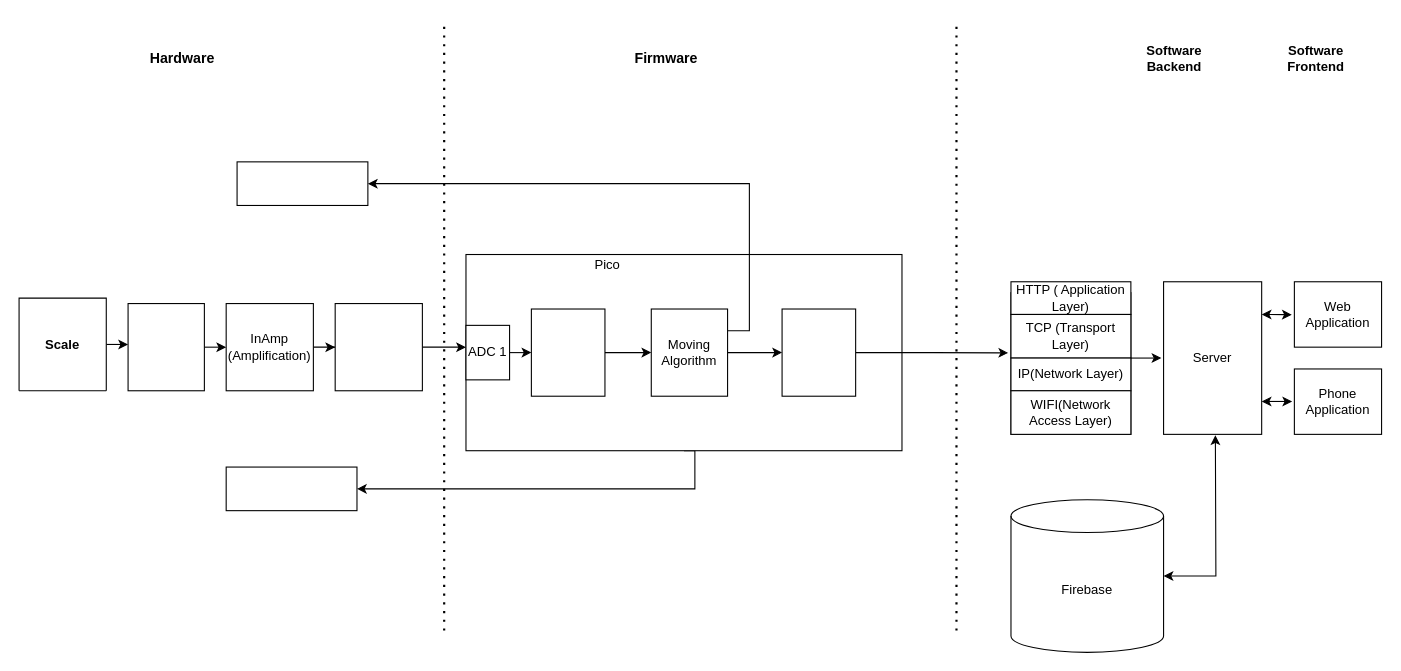
Image size: 1401x671. Some labels were removed from this diagram. The centre of each missing label's shape, as x and y in pixels:
"7 Segment" goes at [302,183].
"Filtering" goes at [378,346].
"Power LED" goes at [291,488].
"Tolerance Check" goes at [818,352].
"Weight Conversion" goes at [567,352].
"Wheatstone bridge" goes at [165,346].
